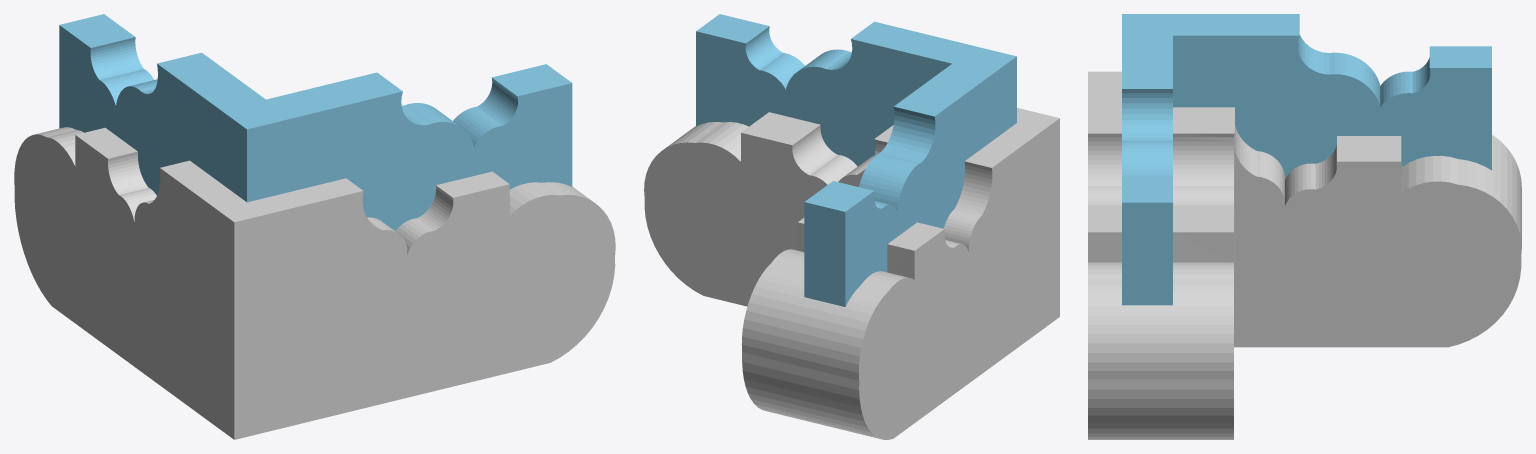
The model's file is Prop_Building_Eastern_Ornamental_Block_Corner_02.FBX.
3 renders of one model, left to right at view 1: azimuth 30°, elevation 25°; view 2: azimuth 150°, elevation 25°; view 3: azimuth 270°, elevation 25°, orthographic. The views are drawn at different scales.
Parts seen in each view (by area): view 1: Prop_Building_Eastern_Ornamental_Block_Corner_02; view 2: Prop_Building_Eastern_Ornamental_Block_Corner_02; view 3: Prop_Building_Eastern_Ornamental_Block_Corner_02.
Boxes of the visible parts, left/top/right/bottom form: Prop_Building_Eastern_Ornamental_Block_Corner_02: left=14, top=14, right=615, bottom=439; Prop_Building_Eastern_Ornamental_Block_Corner_02: left=644, top=14, right=1059, bottom=439; Prop_Building_Eastern_Ornamental_Block_Corner_02: left=1088, top=14, right=1521, bottom=439.
Size of the model in its own units: 1341 by 977 by 1341.
